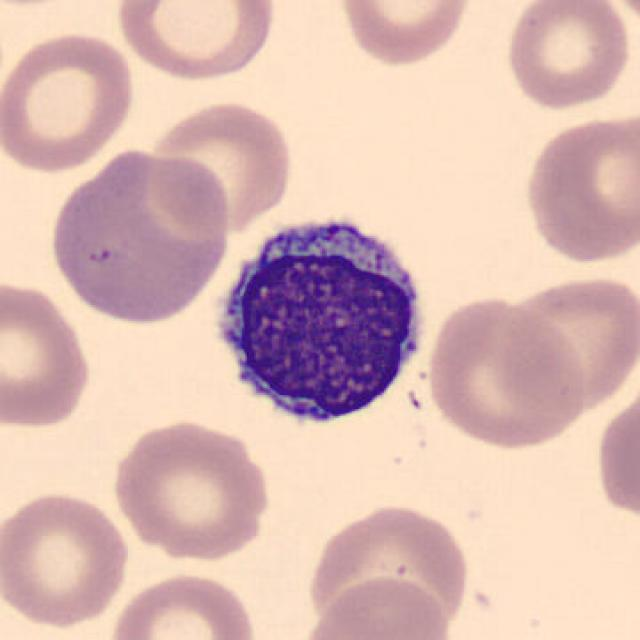Lymphocyte: (202, 201, 434, 439)
RBC: (45, 143, 238, 328), (423, 293, 589, 453), (108, 414, 276, 562), (304, 499, 473, 636), (494, 270, 638, 418), (0, 27, 139, 176), (147, 97, 297, 233), (0, 486, 133, 631), (519, 109, 638, 268), (0, 275, 96, 434), (505, 0, 640, 113), (112, 0, 279, 85), (104, 567, 259, 640), (332, 0, 477, 71), (299, 575, 457, 640), (592, 379, 638, 531)
